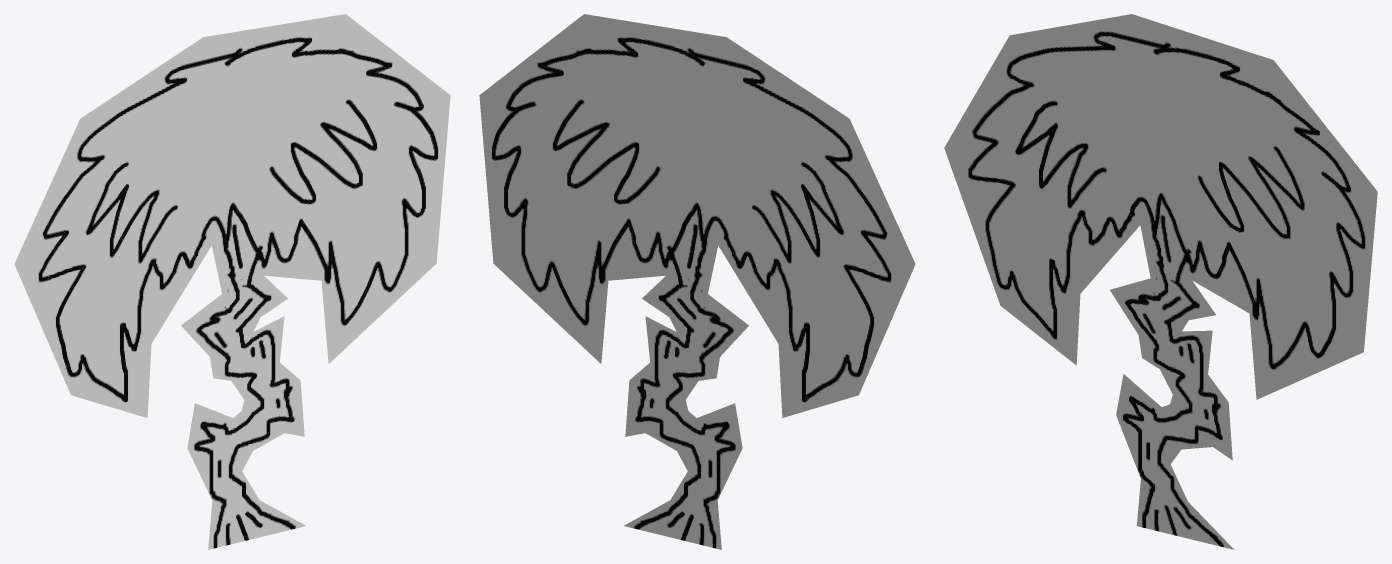
Rendered from tree1.fbx.
3 renders of one model, left to right at view 1: azimuth 30°, elevation 25°; view 2: azimuth 150°, elevation 25°; view 3: azimuth 330°, elevation 25°, orthographic.
Visible parts, largest first — view 1: Plane.009; view 2: Plane.009; view 3: Plane.009.
Part boxes in pixels (x1,y1,x2,y2): Plane.009: (14,14,450,549); Plane.009: (479,14,915,549); Plane.009: (944,14,1377,549).
Bounding box in the file's own units: 1821 × 2051 × 0.000411.
